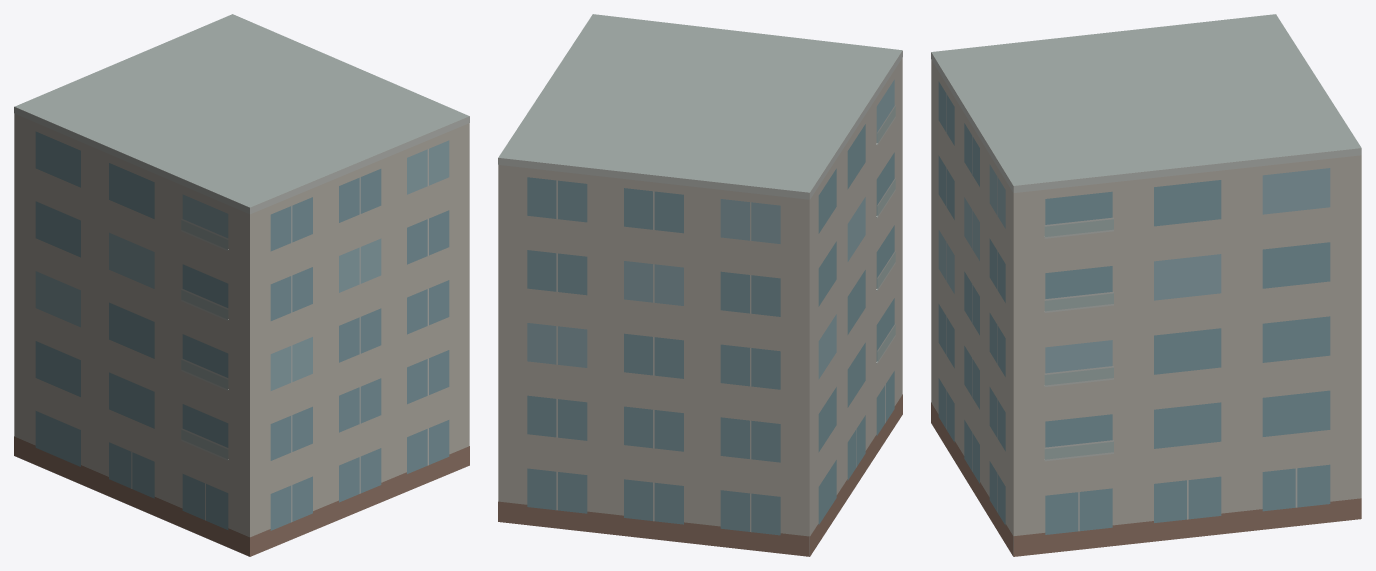
Rendered from survey-upis-32661284.glb.
3 renders of one model, left to right at view 1: azimuth 30°, elevation 25°; view 2: azimuth 150°, elevation 25°; view 3: azimuth 270°, elevation 25°, orthographic. The views are drawn at different scales.
Parts seen in each view (by area): view 1: survey-upis-32661284.tmp; view 2: survey-upis-32661284.tmp; view 3: survey-upis-32661284.tmp.
Part boxes in pixels (<box>): survey-upis-32661284.tmp: <box>14,14,469,556</box>; survey-upis-32661284.tmp: <box>498,14,902,556</box>; survey-upis-32661284.tmp: <box>931,14,1361,556</box>.
Bounding box in the file's own units: 12.54 × 12.6 × 13.27.
